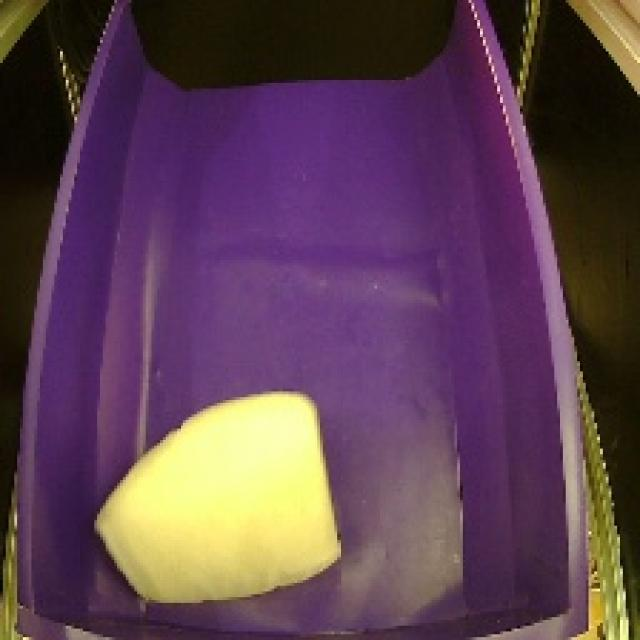white_radish: (89, 372, 351, 614)
